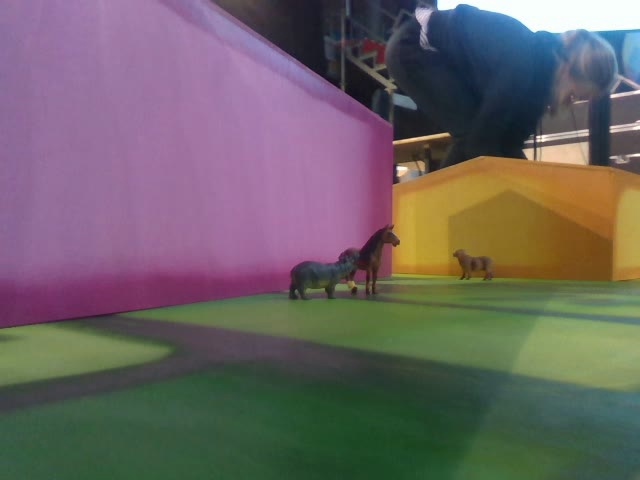toy: (287, 256, 357, 301), (452, 250, 494, 282)
